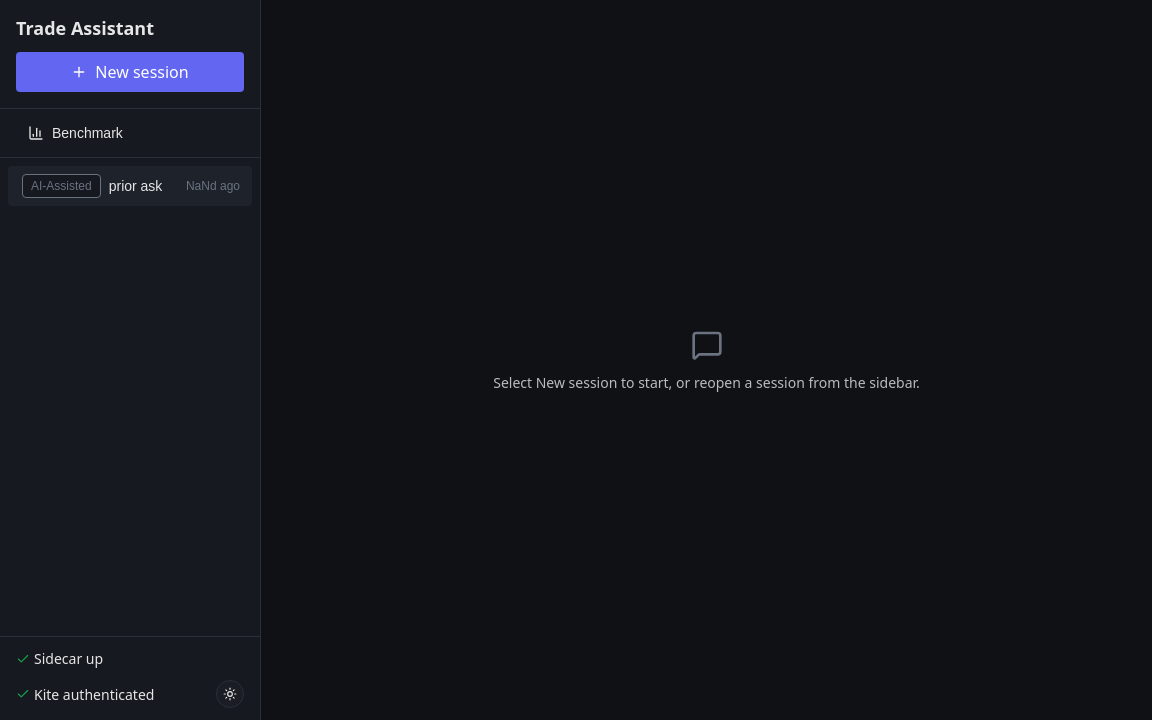
Test: App › reopens an ai_assisted session, replays its transcript, and seeds the last-used lens
This screenshot has width=1152, height=720.
Step 1. Click the text "prior ask" → (136, 186), box [109,178,162,194]
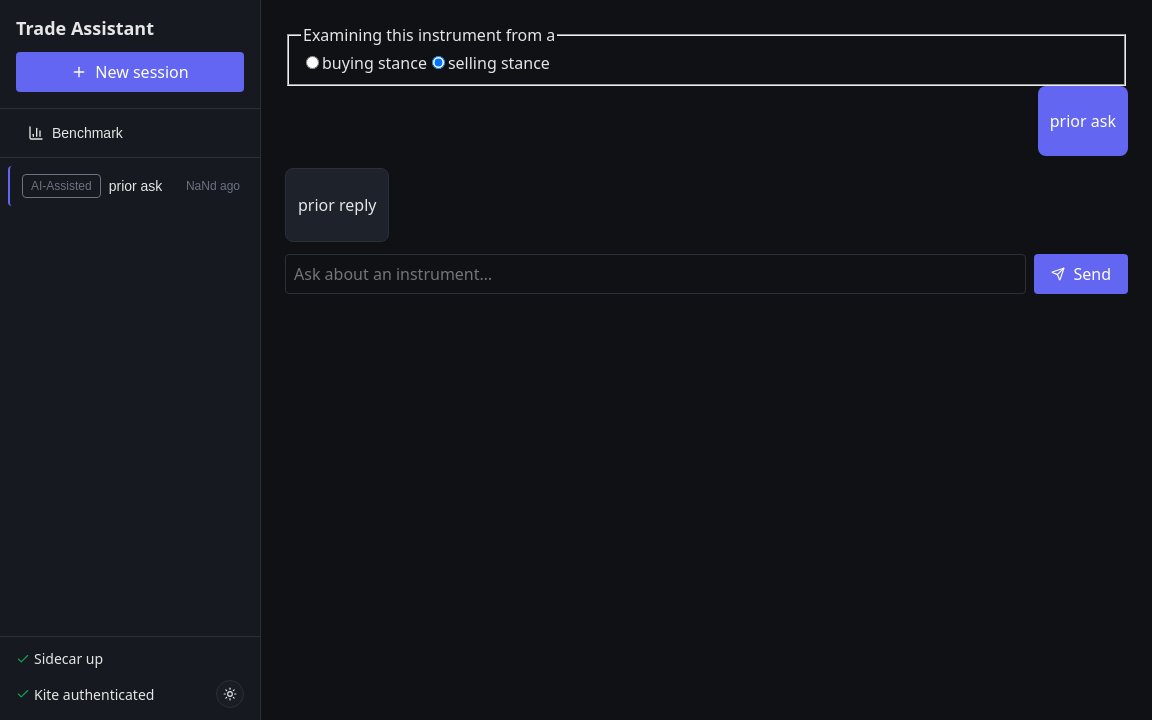
Expected: the text "prior reply" is shown, [298,193,376,217]
Expected: the radio button labelled "selling stance" is checked, [432,56,445,69]
